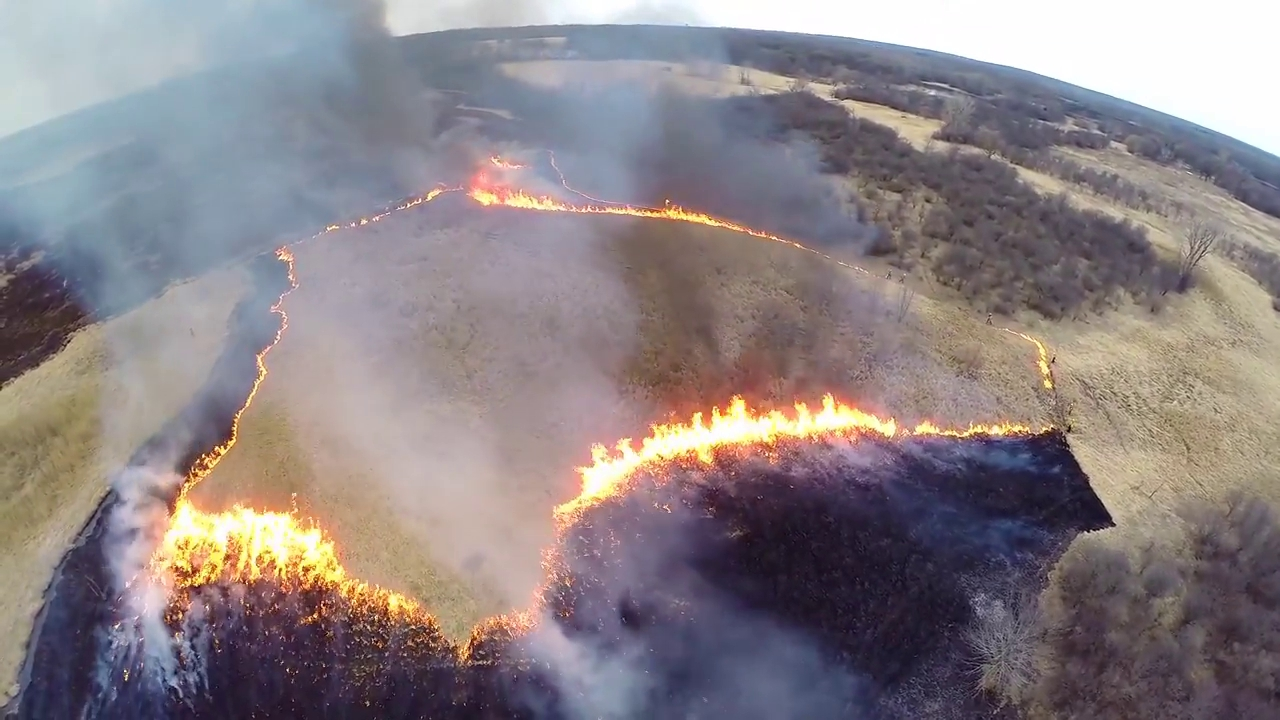forest_fire: (150, 247, 434, 620), (308, 151, 869, 276), (554, 394, 1038, 535), (457, 549, 562, 657), (998, 327, 1055, 391)
